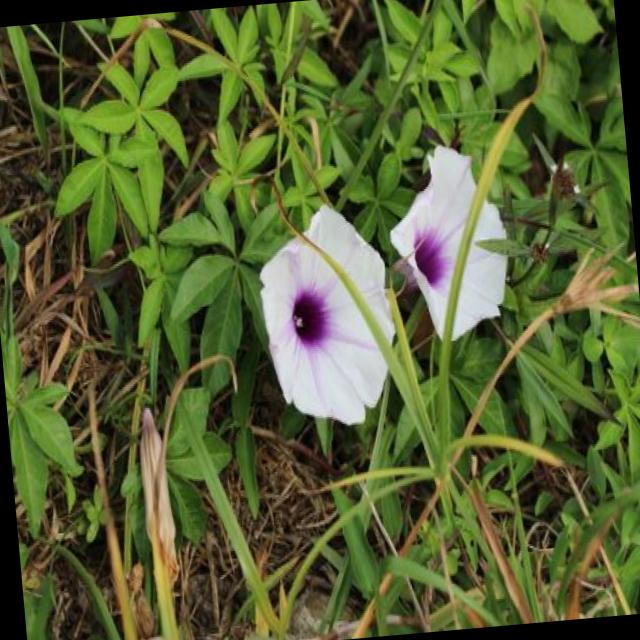ipomoea: (250, 196, 404, 437), (381, 136, 520, 350)
